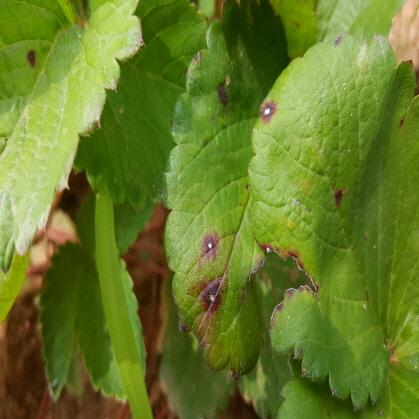Leaf Spot: (245, 31, 418, 412), (162, 0, 291, 380), (0, 0, 144, 274)
